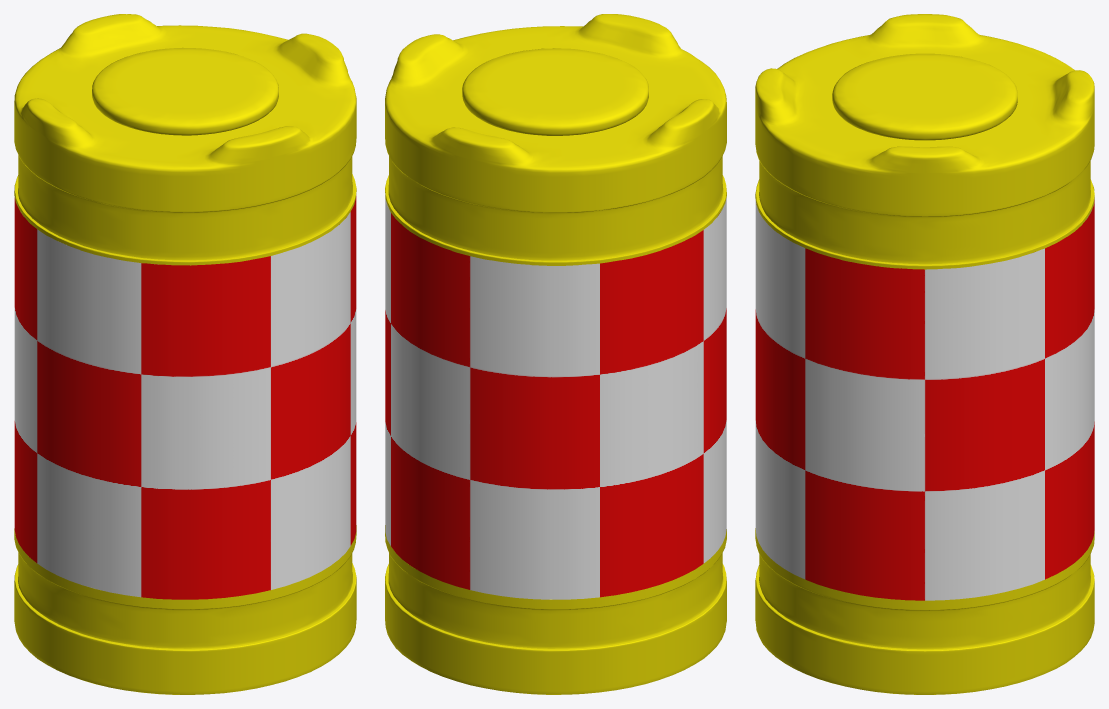
File: water_tong.glb
3 renders of one model, left to right at view 1: azimuth 30°, elevation 25°; view 2: azimuth 150°, elevation 25°; view 3: azimuth 270°, elevation 25°, orthographic.
Parts seen in each view (by area): view 1: Anti-collision bucket; view 2: Anti-collision bucket; view 3: Anti-collision bucket.
Part boxes in pixels (x1,y1,x2,y2): Anti-collision bucket: (14, 14, 356, 694); Anti-collision bucket: (385, 14, 726, 694); Anti-collision bucket: (755, 14, 1094, 694).
Size of the model in its own units: 0.4103 by 0.72 by 0.4103.
2 materials, 1 textured.
